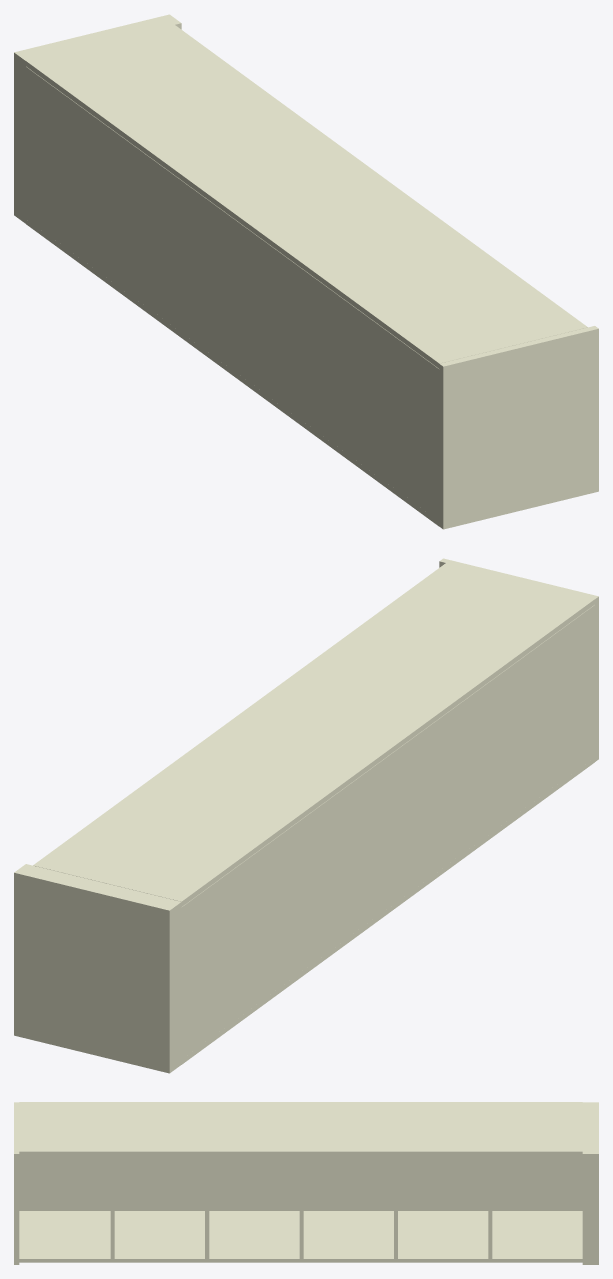
The picture shows the model from 3 angles, top to bottom: view 1: azimuth 30°, elevation 25°; view 2: azimuth 150°, elevation 25°; view 3: azimuth 270°, elevation 25°; orthographic projection. The views are drawn at different scales.
Parts seen in each view (by area): view 1: ROOT_link (×5); view 2: ROOT_link (×5); view 3: ROOT_link (×10).
Boxes of the visible parts, left/top/right/bottom form: ROOT_link (×5): left=14, top=14, right=598, bottom=529; ROOT_link (×5): left=14, top=558, right=598, bottom=1073; ROOT_link (×10): left=14, top=1102, right=598, bottom=1264.
Bounding box in the file's own units: 0.4505 × 0.451 × 2.15.
